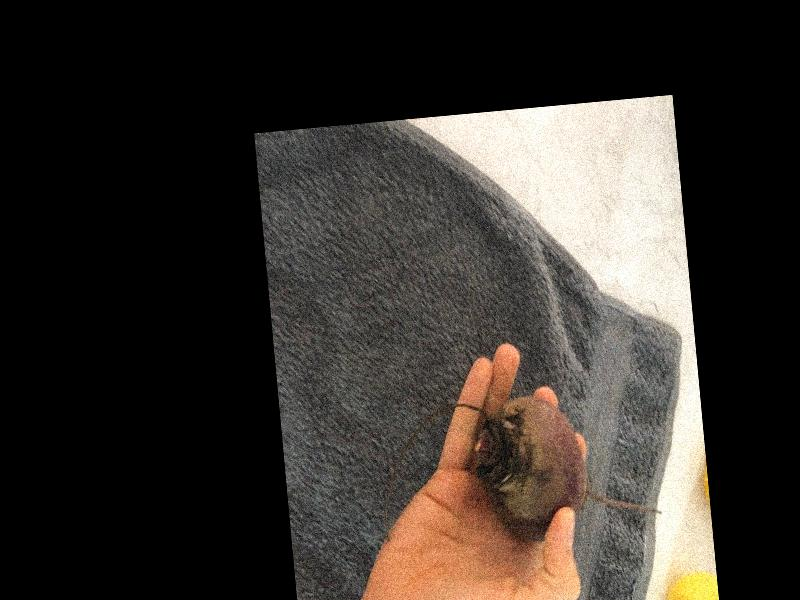Beet: (464, 387, 662, 547)
